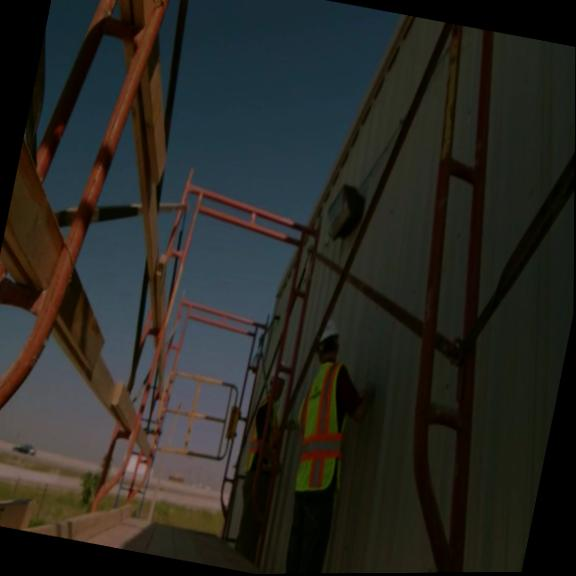safety_vest: (281, 354, 362, 502), (242, 399, 287, 479)
